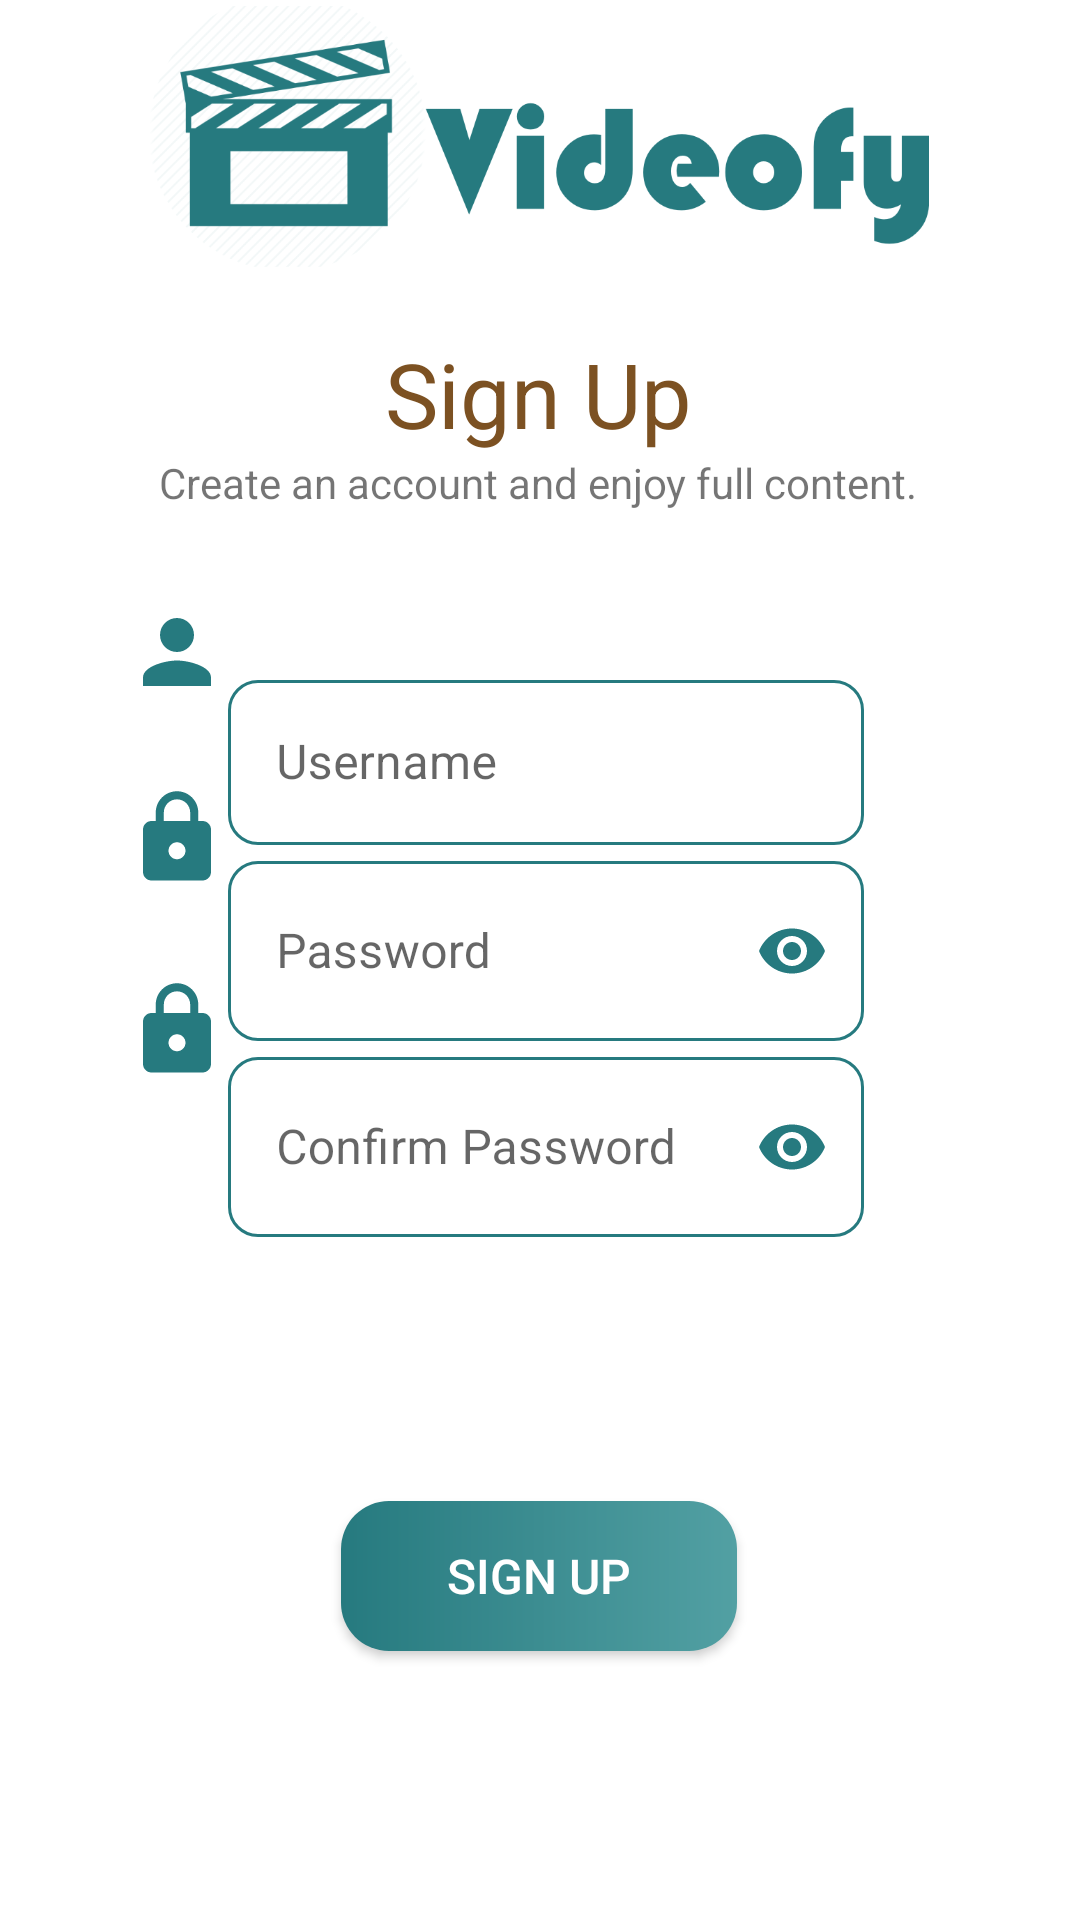

Named icons in this screenshot (1080 × 1920) and their centers, point (x, y):
lock: point (177, 836), point (177, 1028)
person: point (177, 652)
